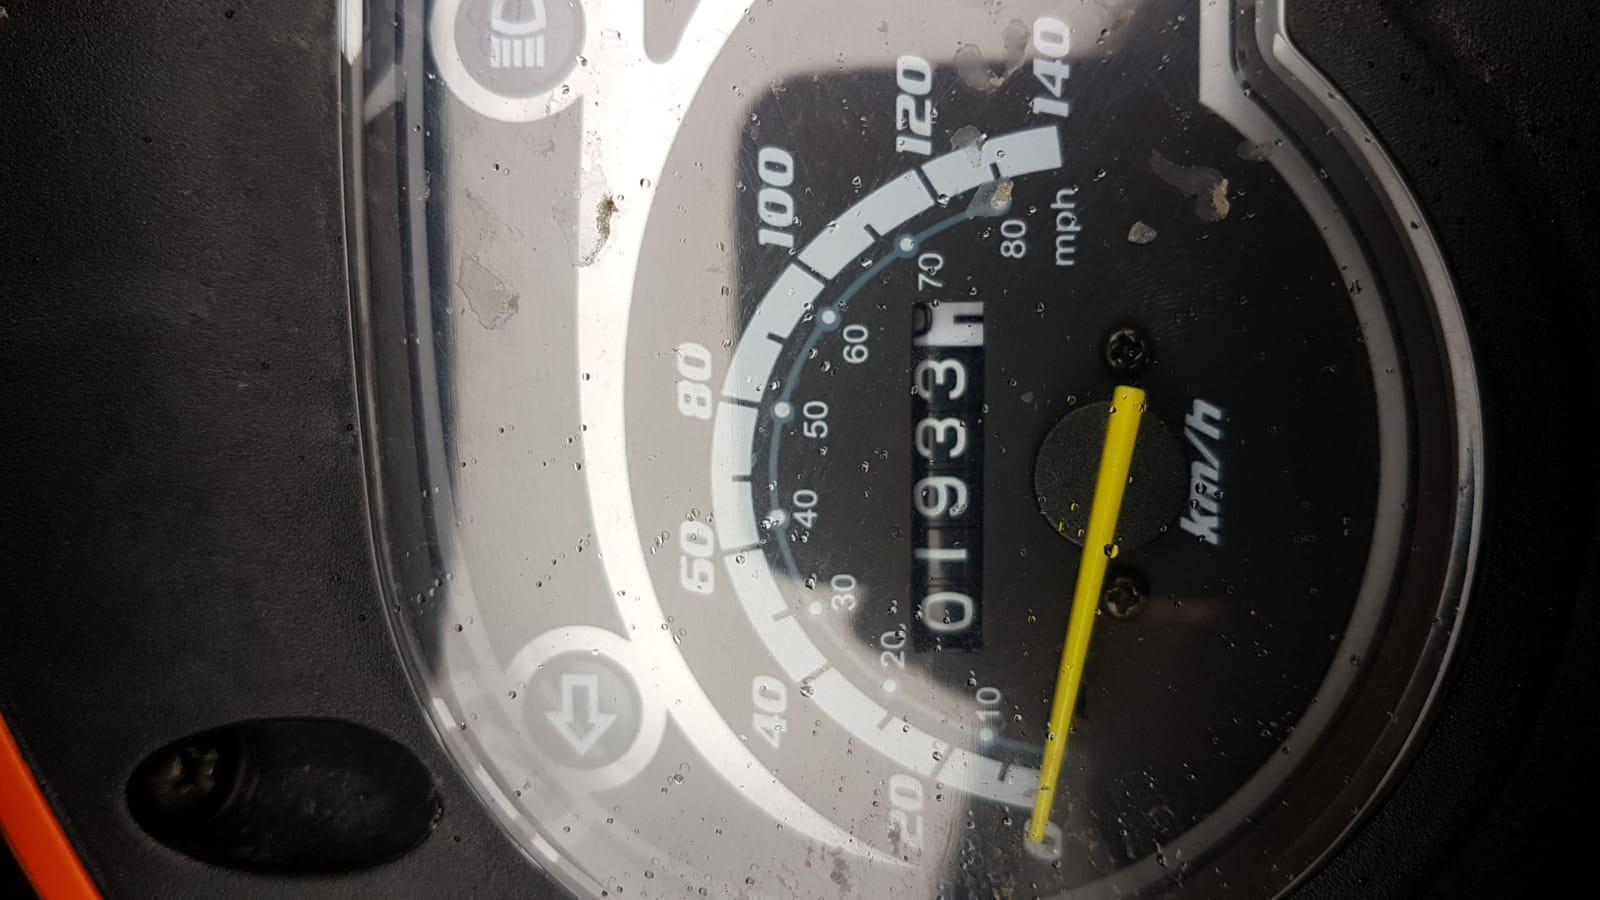0: (913, 588, 978, 634)
1: (905, 533, 978, 571), (947, 303, 985, 332)
3: (909, 352, 970, 404), (910, 413, 974, 463)
9: (908, 470, 974, 523)
odometer: (902, 293, 995, 662)
